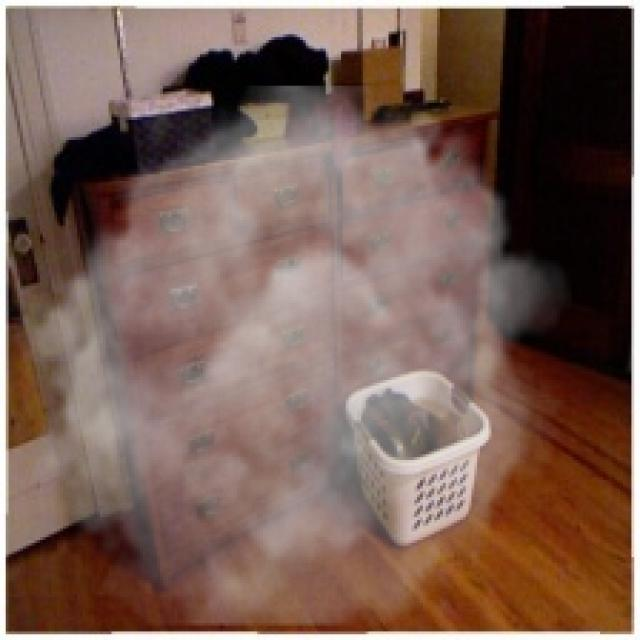smoke: (9, 85, 572, 626)
